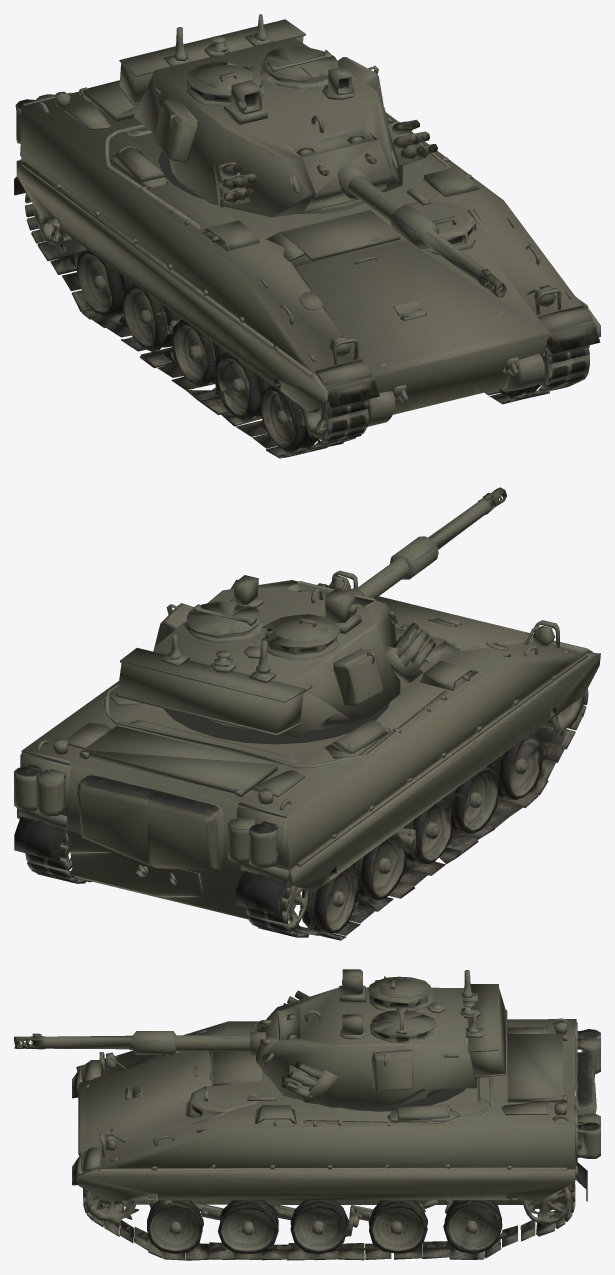
File: tank_light.glb
The picture shows the model from 3 angles, top to bottom: view 1: azimuth 30°, elevation 25°; view 2: azimuth 150°, elevation 25°; view 3: azimuth 270°, elevation 25°; orthographic projection. The views are drawn at different scales.
Visible parts, largest first — view 1: hull, P_turret, P_barrel; view 2: hull, P_turret, P_barrel; view 3: hull, P_turret, P_barrel.
Boxes of the visible parts, bbox=[...] form: hull: bbox=[14, 80, 600, 458]; P_turret: bbox=[116, 14, 455, 224]; P_barrel: bbox=[309, 139, 506, 297]; hull: bbox=[14, 570, 600, 940]; P_turret: bbox=[83, 575, 435, 764]; P_barrel: bbox=[324, 487, 506, 597]; hull: bbox=[72, 1018, 600, 1260]; P_turret: bbox=[204, 969, 562, 1117]; P_barrel: bbox=[14, 1020, 276, 1060].
Size of the model in its own units: 3.06 by 2.83 by 6.8.
Materials: 4 (3 with a texture image).
